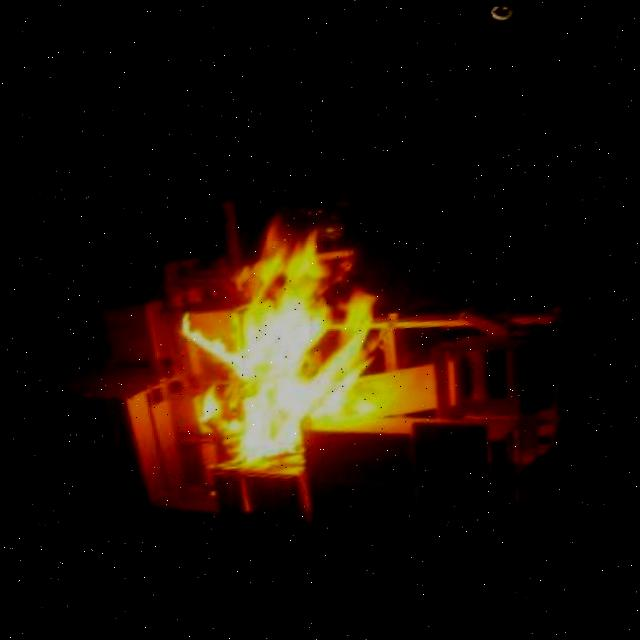fire: (178, 199, 380, 475)
